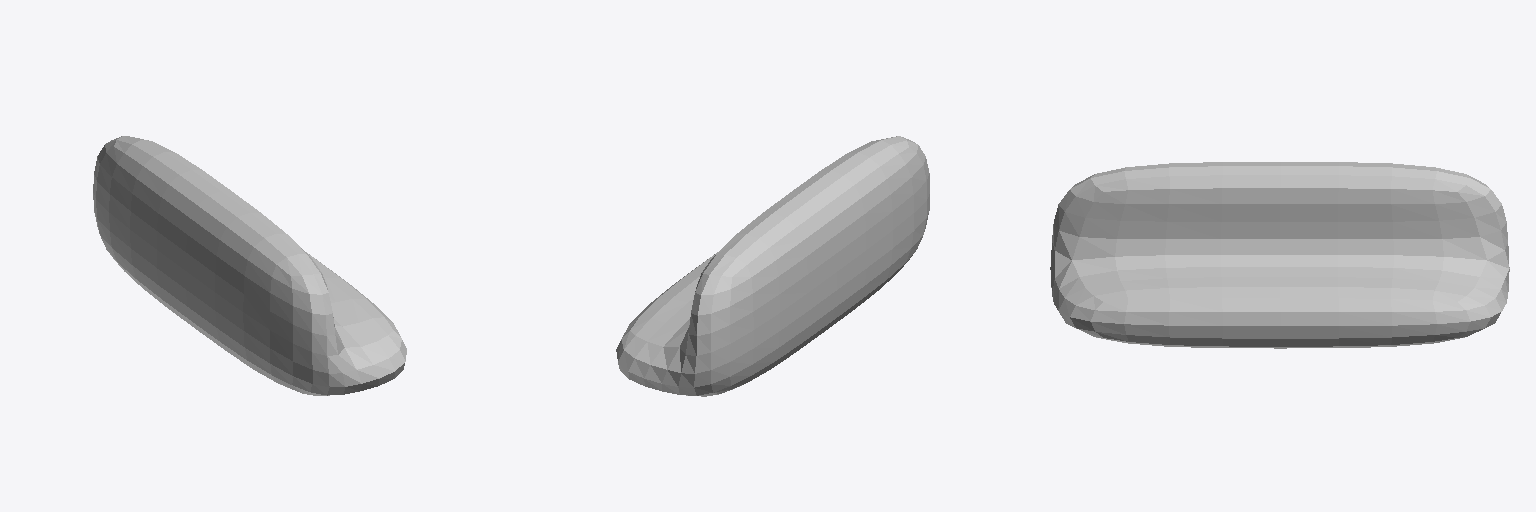
The model's file is couch.obj.
3 views of the same model, side by side, from view 1: azimuth 30°, elevation 25°; view 2: azimuth 150°, elevation 25°; view 3: azimuth 270°, elevation 25° (orthographic).
Visible parts, largest first — view 1: Cube; view 2: Cube; view 3: Cube.
Boxes of the visible parts, box(x1,y1,x2,y2) form: Cube: box(93, 136, 406, 395); Cube: box(616, 136, 929, 396); Cube: box(1050, 162, 1509, 348).
Bounding box in the file's own units: 1.95 × 1.95 × 5.55.